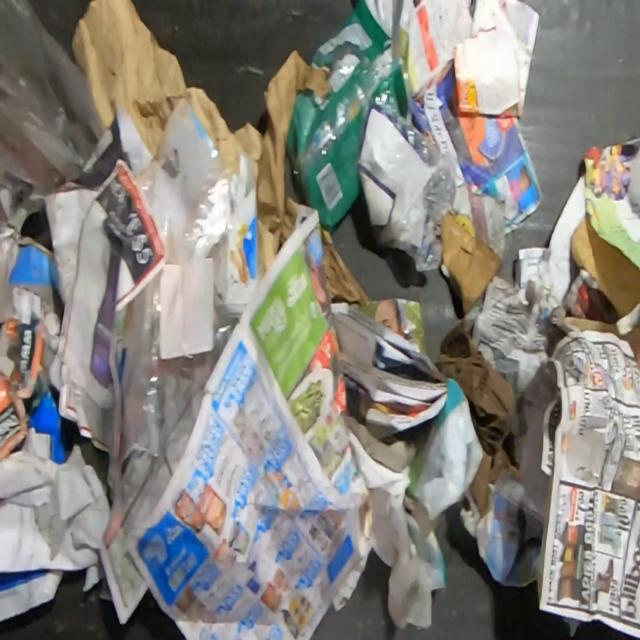cardboard: (433, 318, 522, 518), (570, 211, 640, 319), (441, 209, 504, 318), (6, 235, 65, 326), (28, 389, 92, 464), (0, 566, 65, 623)
soft_plastic: (118, 100, 249, 531), (284, 0, 412, 235), (0, 0, 102, 214), (356, 90, 461, 273)
